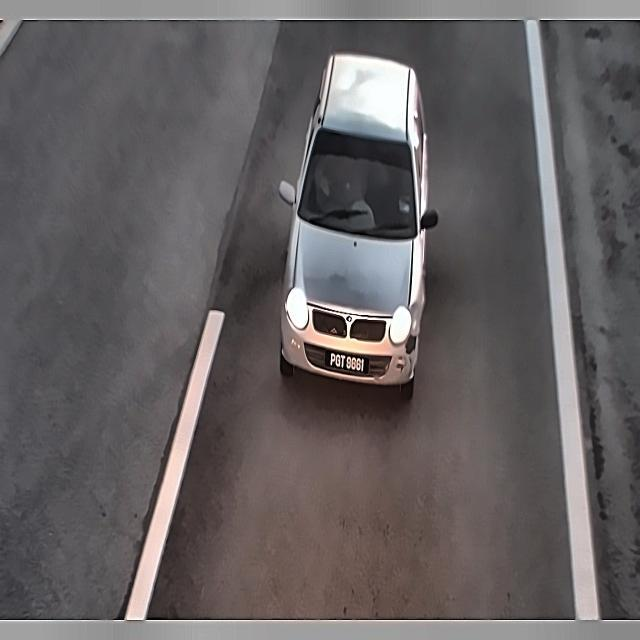car: (320, 345, 374, 382)
